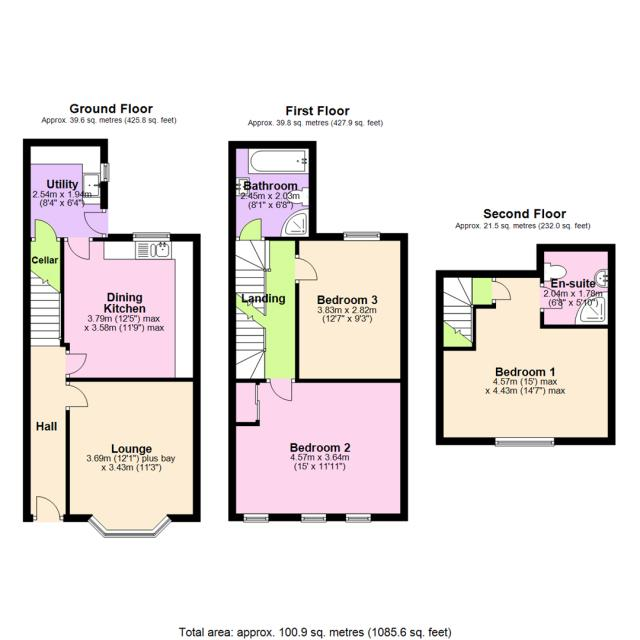DOOR: (34, 494, 62, 522), (293, 256, 320, 283), (65, 235, 92, 261), (268, 376, 293, 404), (539, 285, 565, 311), (34, 217, 59, 243), (65, 384, 91, 409), (237, 217, 263, 242), (82, 211, 109, 235), (64, 352, 89, 377), (490, 279, 516, 303)
ROOM: (434, 269, 618, 446), (227, 378, 410, 523), (63, 374, 202, 539), (59, 232, 202, 383), (294, 230, 410, 383)
WINDOW: (494, 436, 556, 448), (102, 528, 157, 539), (343, 229, 382, 243), (88, 514, 108, 540), (151, 515, 173, 538), (132, 231, 171, 242), (345, 513, 372, 524), (243, 512, 269, 523), (301, 512, 327, 523), (99, 162, 111, 183)
